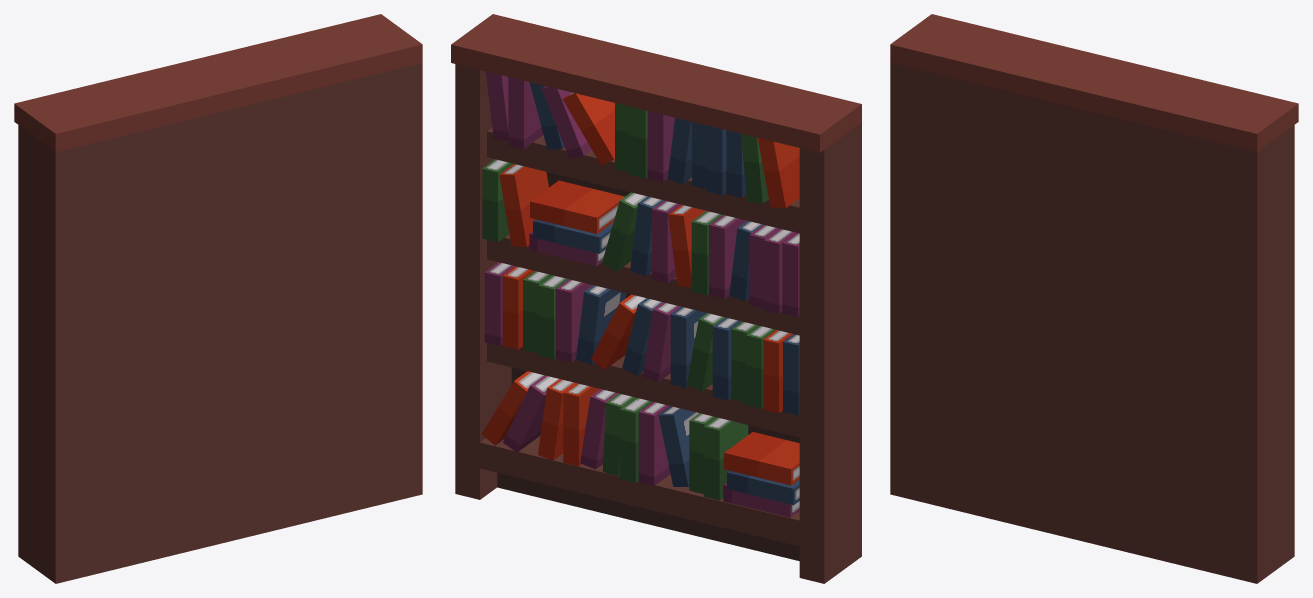
File: bookshelf_large.fbx
The picture shows the model from 3 angles, left to right: view 1: azimuth 30°, elevation 25°; view 2: azimuth 150°, elevation 25°; view 3: azimuth 330°, elevation 25°; orthographic projection.
Parts seen in each view (by area): view 1: bookshelf2; view 2: bookshelf2, polySurface1; view 3: bookshelf2.
Part boxes in pixels (box(x1,y1,x2,y2)): bookshelf2: box(14, 14, 422, 583); bookshelf2: box(451, 14, 861, 583); polySurface1: box(481, 71, 799, 517); bookshelf2: box(890, 14, 1298, 583).
Bounding box in the file's own units: 28.39 × 33.27 × 5.58.
